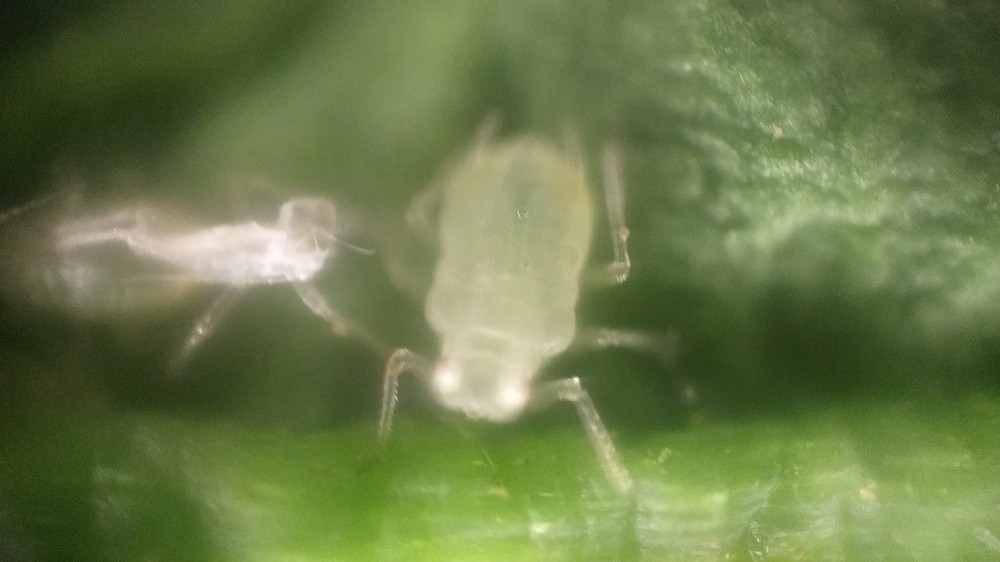Pulgon: (358, 96, 740, 478)
